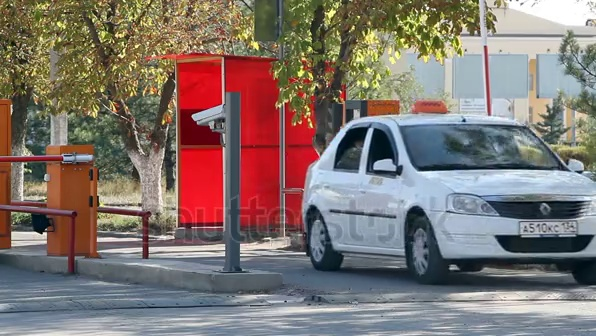licenseplate: (517, 219, 580, 242)
